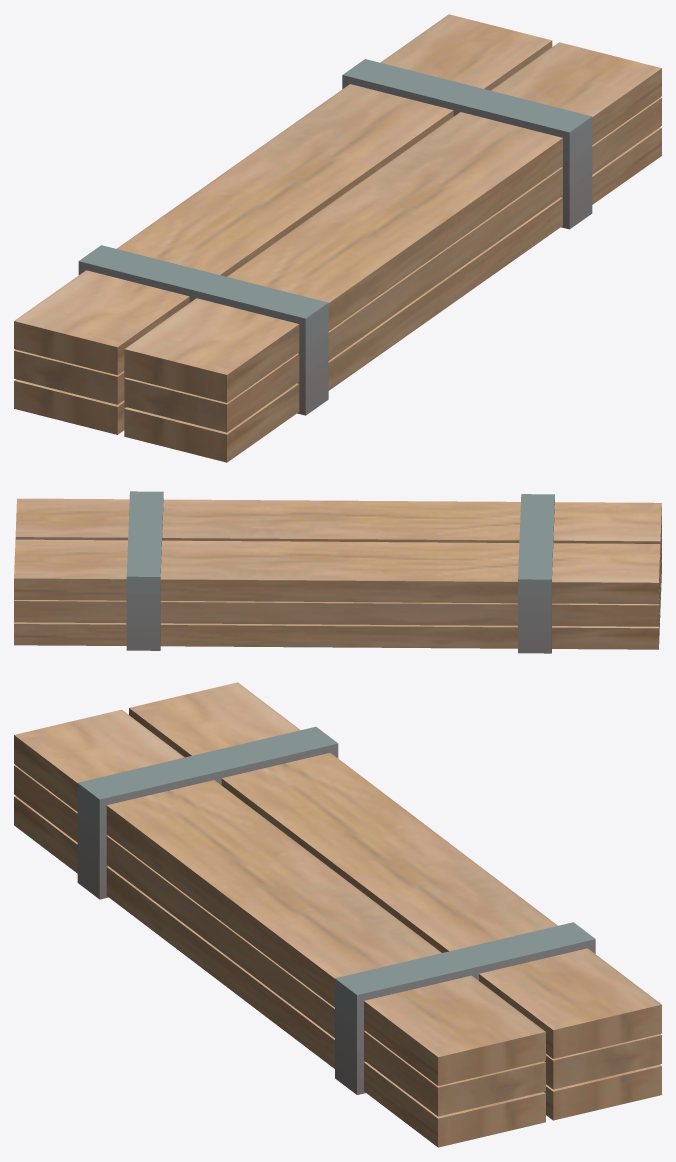
Rendered from Boards (2).fbx.
3 renders of one model, top to bottom at view 1: azimuth 30°, elevation 25°; view 2: azimuth 150°, elevation 25°; view 3: azimuth 270°, elevation 25°, orthographic. The views are drawn at different scales.
Parts seen in each view (by area): view 1: Cube_001__1_, Cube_001__10_, Cube_001, Cube_002, Cube_023, Cube_023__1_, Cube_001__9_, Cube_002__9_; view 2: Cube_001__10_, Cube_001__1_, Cube_001__9_, Cube_002__9_, Cube_023, Cube_023__1_; view 3: Cube_001__1_, Cube_001__10_, Cube_001, Cube_002, Cube_023__1_, Cube_023, Cube_001__9_, Cube_002__9_.
Boxes of the visible parts, <box> form: Cube_001__1_: <box>124,42,661,402</box>; Cube_001__10_: <box>14,14,552,375</box>; Cube_001: <box>124,127,661,462</box>; Cube_002: <box>124,97,661,432</box>; Cube_023: <box>342,59,592,229</box>; Cube_023__1_: <box>78,245,328,415</box>; Cube_001__9_: <box>14,379,126,434</box>; Cube_002__9_: <box>14,349,125,404</box>; Cube_001__10_: <box>14,539,660,604</box>; Cube_001__1_: <box>15,498,661,562</box>; Cube_001__9_: <box>14,595,660,649</box>; Cube_002__9_: <box>14,573,660,626</box>; Cube_023: <box>126,491,163,650</box>; Cube_023__1_: <box>518,494,554,653</box>; Cube_001__1_: <box>14,709,545,1085</box>; Cube_001__10_: <box>129,682,661,1058</box>; Cube_001: <box>14,796,545,1147</box>; Cube_002: <box>14,765,545,1116</box>; Cube_023__1_: <box>77,727,338,899</box>; Cube_023: <box>335,922,595,1094</box>; Cube_001__9_: <box>544,1064,661,1120</box>; Cube_002__9_: <box>544,1034,661,1089</box>.
Size of the model in its own units: 248 by 30.83 by 181.
